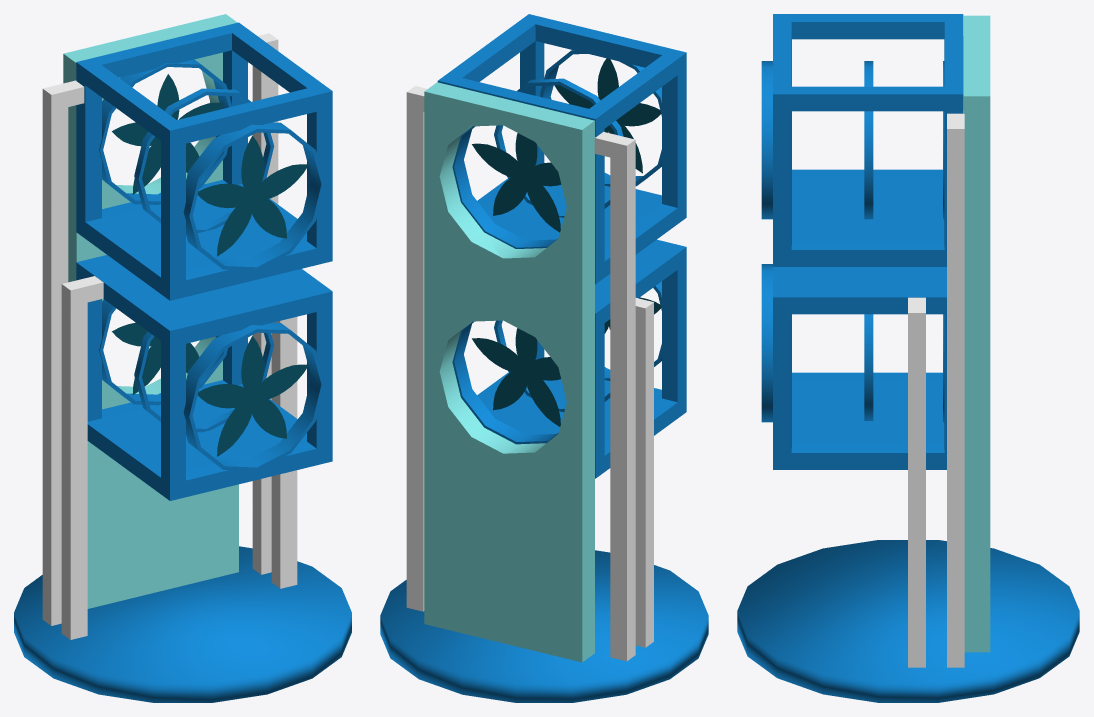
The model's file is 2026-1-9-CarbonCapture-v029.fbx.
3 views of the same model, side by side, from view 1: azimuth 30°, elevation 25°; view 2: azimuth 150°, elevation 25°; view 3: azimuth 270°, elevation 25° (orthographic). The views are drawn at different scales.
Parts seen in each view (by area): view 1: Cube.011; view 2: Cube.011; view 3: Cube.011.
Part boxes in pixels (bbox=[...]): Cube.011: bbox=[14, 14, 351, 702]; Cube.011: bbox=[380, 14, 708, 702]; Cube.011: bbox=[737, 14, 1079, 702].
Bounding box in the file's own units: 355 × 670 × 360.
